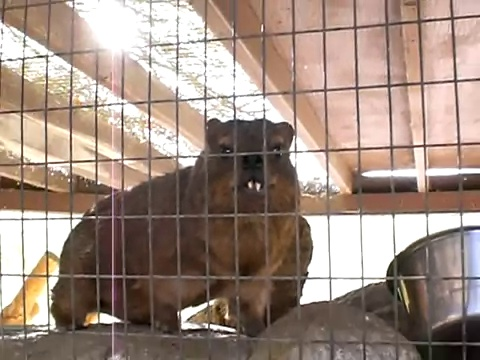Rock Hyrex: (53, 117, 313, 337)
